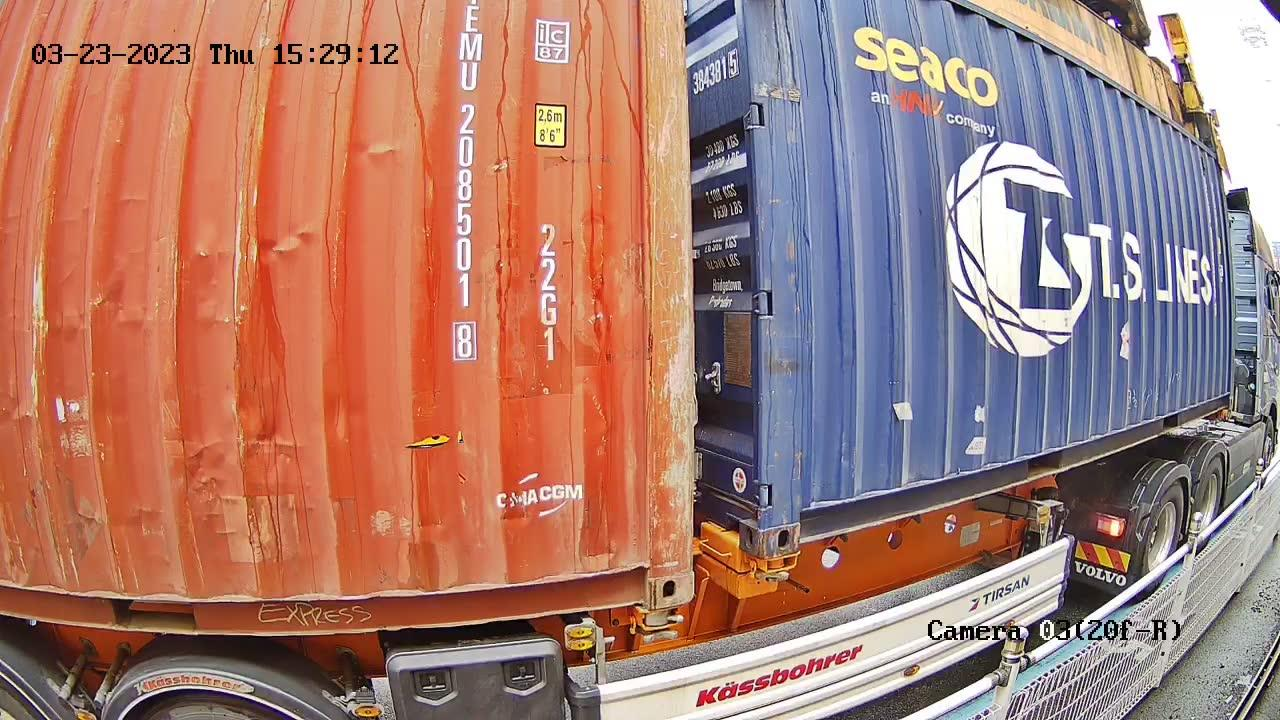Cone: (637, 607, 683, 644), (749, 553, 800, 586)
Hole_L: (762, 477, 826, 558)
Hole_R: (602, 536, 692, 609), (717, 471, 763, 561)
Tire: (1144, 483, 1184, 592), (1194, 456, 1224, 552)
